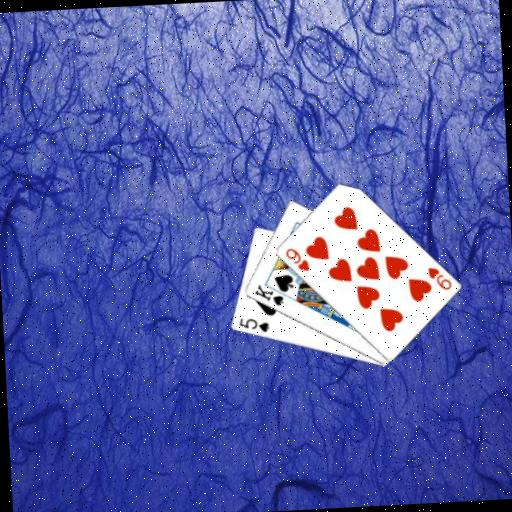5S: (236, 314, 271, 336)
9H: (424, 263, 453, 293), (282, 244, 310, 274)
KS: (251, 280, 285, 309)
